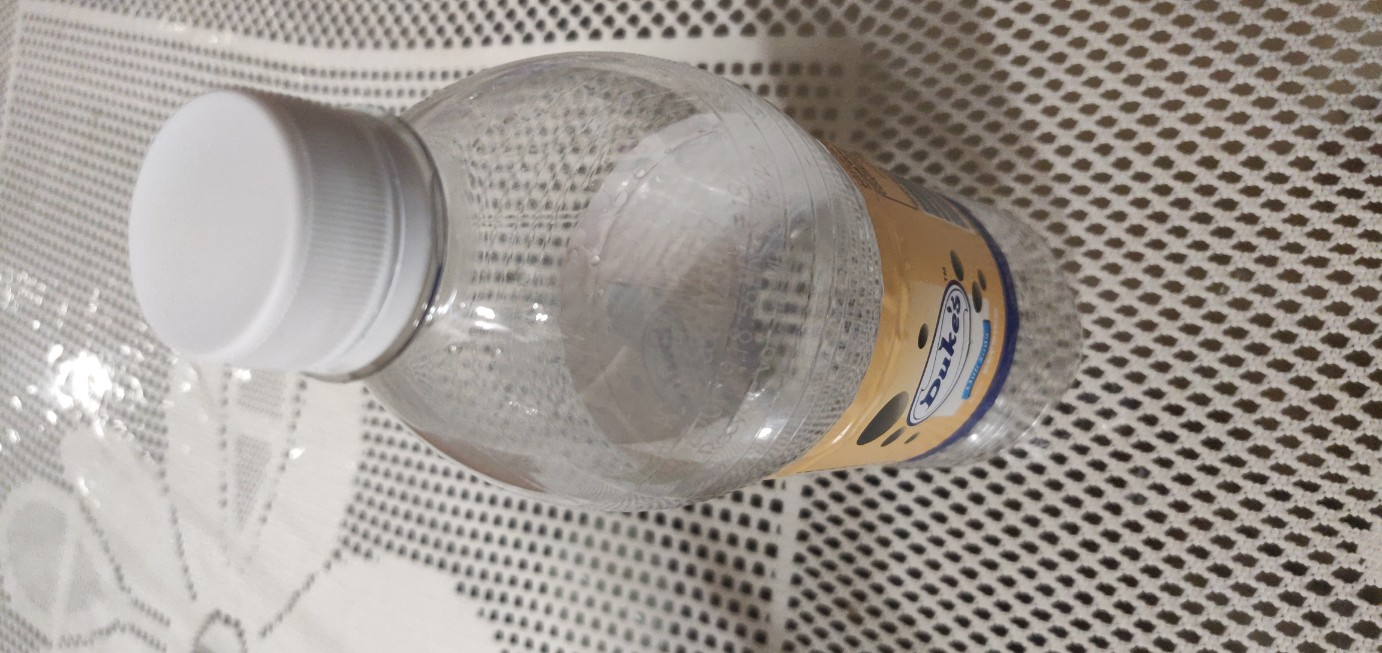Electronics: (109, 34, 1106, 526)
